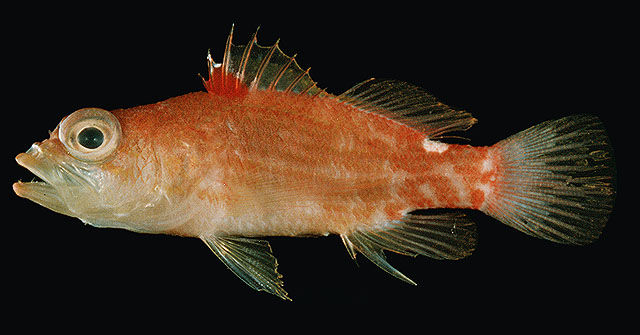fish: (13, 22, 615, 302)
